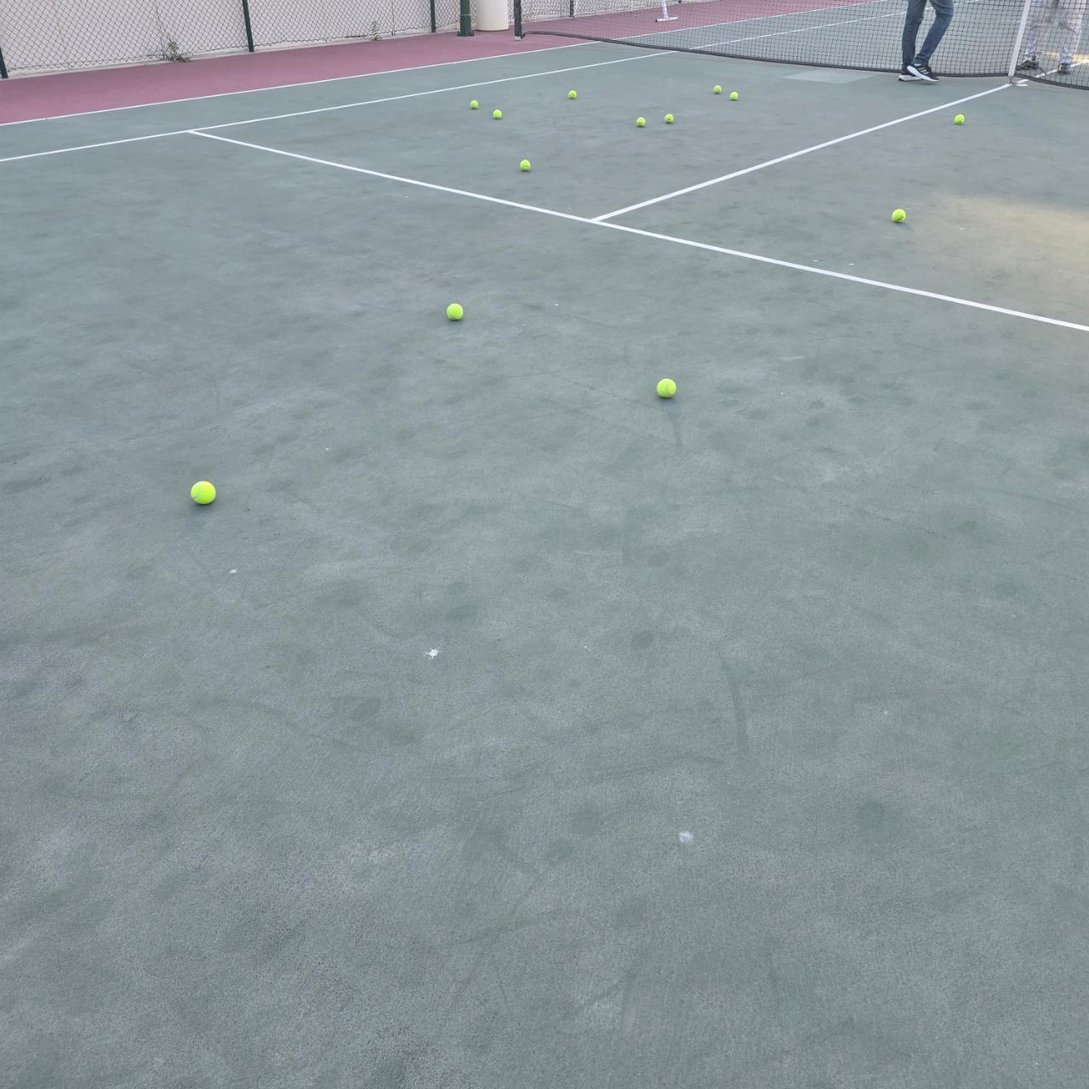tennis-ball: (189, 478, 216, 505), (655, 375, 676, 397), (445, 301, 464, 320), (890, 206, 905, 222), (517, 157, 531, 172), (635, 115, 647, 128), (953, 112, 965, 124), (662, 111, 674, 123), (467, 97, 478, 109), (711, 82, 722, 94), (491, 107, 502, 118), (727, 89, 738, 100), (566, 87, 576, 99)
